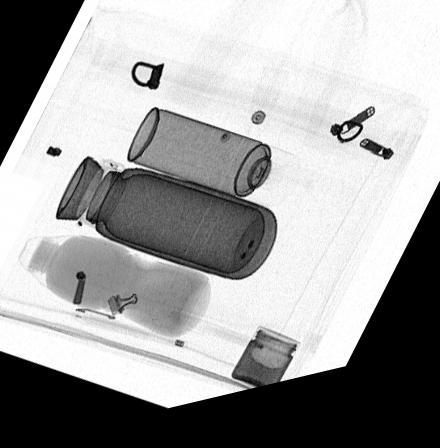Sprayer: (125, 114, 296, 221)
